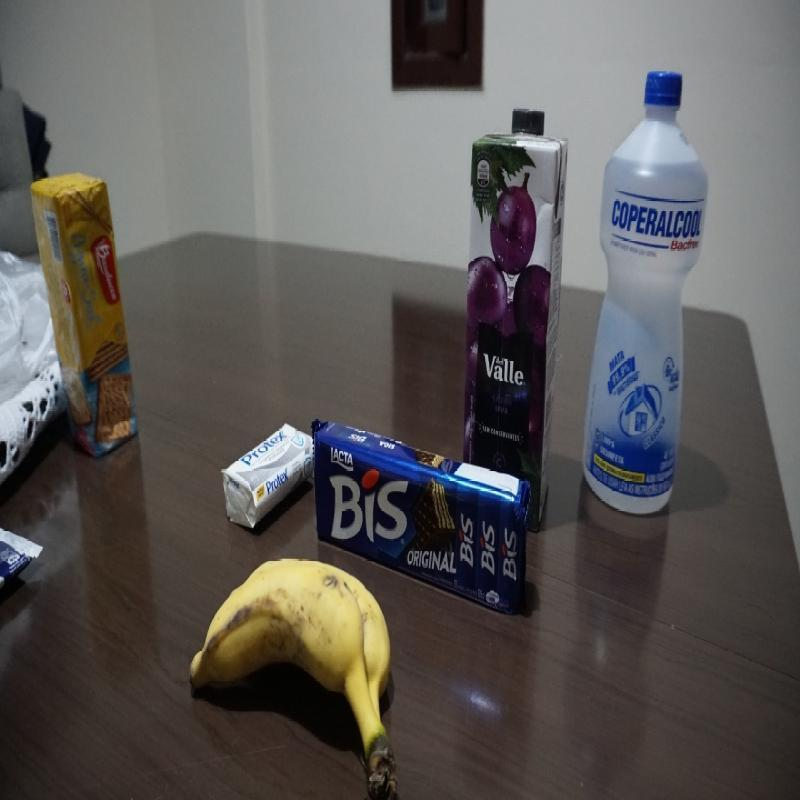Alcohol Bottle: (581, 70, 710, 519)
Banana: (183, 555, 399, 797)
Cracker: (28, 172, 140, 462)
Popcorn: (0, 518, 46, 602)
Soap: (220, 422, 318, 531)
